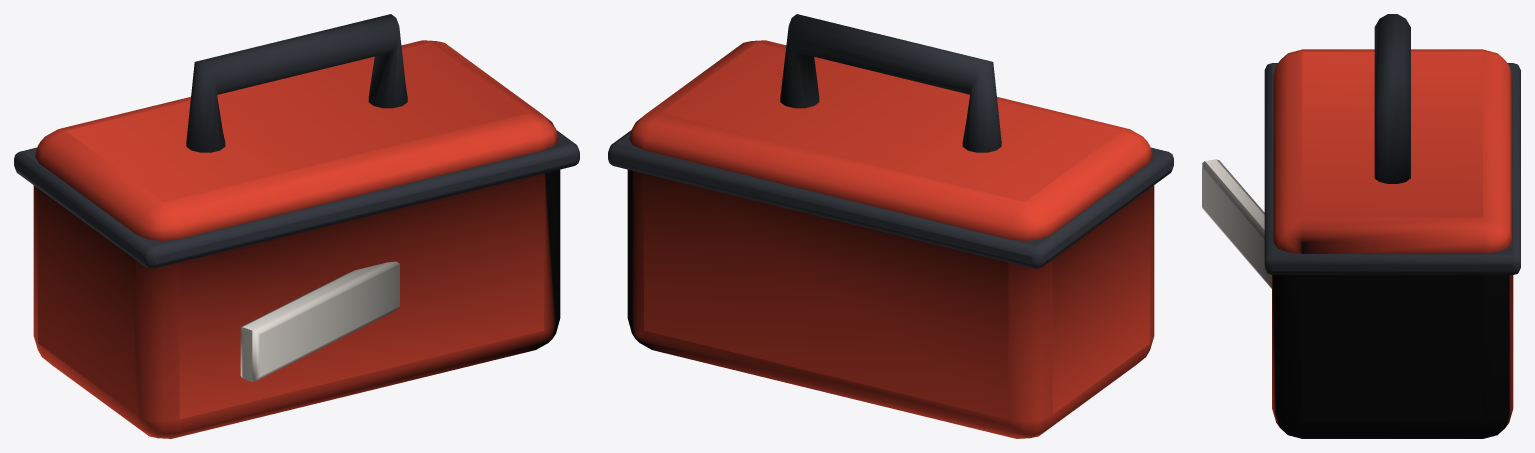
Rendered from junk_toolbox.glb.
The picture shows the model from 3 angles, left to right: view 1: azimuth 30°, elevation 25°; view 2: azimuth 150°, elevation 25°; view 3: azimuth 270°, elevation 25°; orthographic projection. The views are drawn at different scales.
Visible parts, largest first — view 1: toolbox_mesh; view 2: toolbox_mesh; view 3: toolbox_mesh.
Part boxes in pixels (x1,y1,x2,y2): toolbox_mesh: (14, 14, 579, 438); toolbox_mesh: (608, 14, 1173, 438); toolbox_mesh: (1202, 14, 1520, 438).
Bounding box in the file's own units: 0.62 × 0.4328 × 0.4229.
